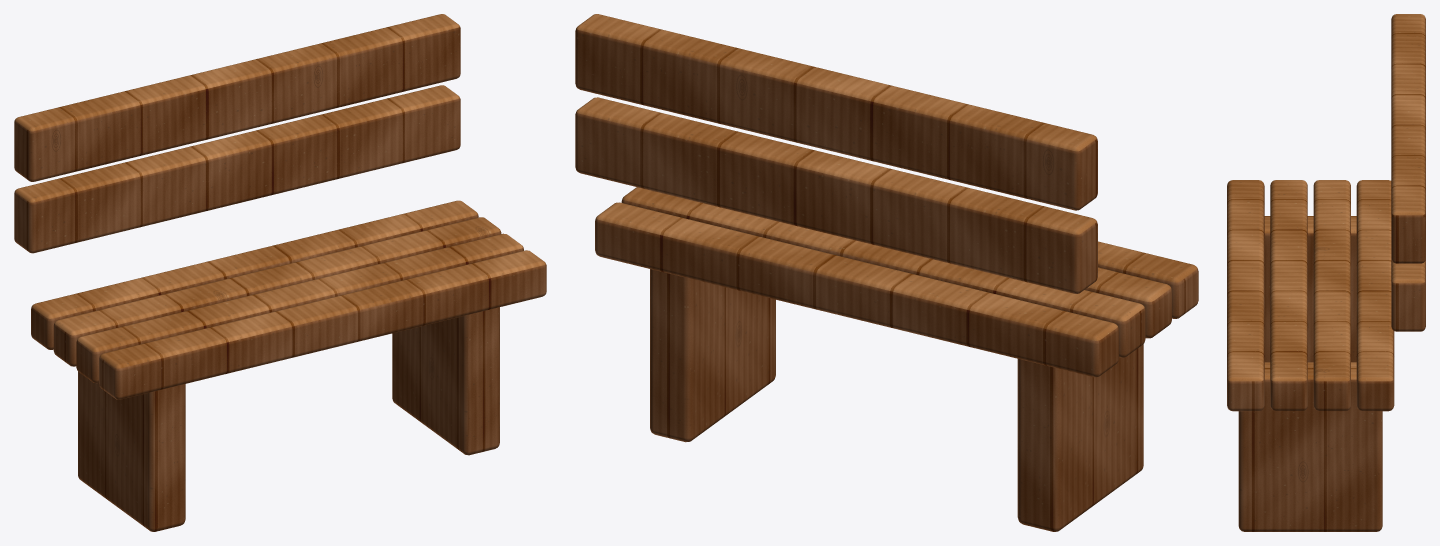
Rendered from bench.glb.
3 views of the same model, side by side, from view 1: azimuth 30°, elevation 25°; view 2: azimuth 150°, elevation 25°; view 3: azimuth 270°, elevation 25° (orthographic). The views are drawn at different scales.
Parts seen in each view (by area): view 1: Bench back, Bench back.001, Bench seat, Bench support, Bench support.001, Bench seat.002, Bench seat.003, Bench seat.001; view 2: Bench back.001, Bench back, Bench seat.003, Bench support, Bench support.001, Bench seat.002, Bench seat, Bench seat.001; view 3: Bench support.001, Bench seat, Bench seat.002, Bench seat.001, Bench back.001, Bench seat.003, Bench support, Bench back.
Boxes of the visible parts, left/top/right/bottom form: Bench back: left=14, top=85, right=460, bottom=253; Bench back.001: left=14, top=14, right=460, bottom=181; Bench seat: left=99, top=250, right=546, bottom=399; Bench support: left=78, top=371, right=185, bottom=531; Bench support.001: left=392, top=307, right=499, bottom=455; Bench seat.002: left=53, top=217, right=501, bottom=366; Bench seat.003: left=31, top=200, right=478, bottom=349; Bench seat.001: left=76, top=233, right=523, bottom=383; Bench back.001: left=575, top=14, right=1097, bottom=210; Bench back: left=575, top=97, right=1097, bottom=293; Bench seat.003: left=595, top=202, right=1118, bottom=377; Bench support: left=1017, top=344, right=1143, bottom=531; Bench support.001: left=650, top=269, right=775, bottom=442; Bench seat.002: left=621, top=187, right=1145, bottom=357; Bench seat: left=1098, top=241, right=1198, bottom=318; Bench seat.001: left=1084, top=267, right=1171, bottom=338; Bench support.001: left=1238, top=362, right=1382, bottom=531; Bench seat: left=1227, top=180, right=1264, bottom=411; Bench seat.002: left=1313, top=180, right=1350, bottom=411; Bench seat.001: left=1270, top=180, right=1307, bottom=411; Bench back.001: left=1391, top=14, right=1425, bottom=263; Bench seat.003: left=1356, top=180, right=1394, bottom=411; Bench support: left=1264, top=216, right=1356, bottom=362; Bench back: left=1391, top=259, right=1425, bottom=331.
Bounding box in the file's own units: 1.65 × 1.3 × 0.69.
2 materials, 2 textured.
